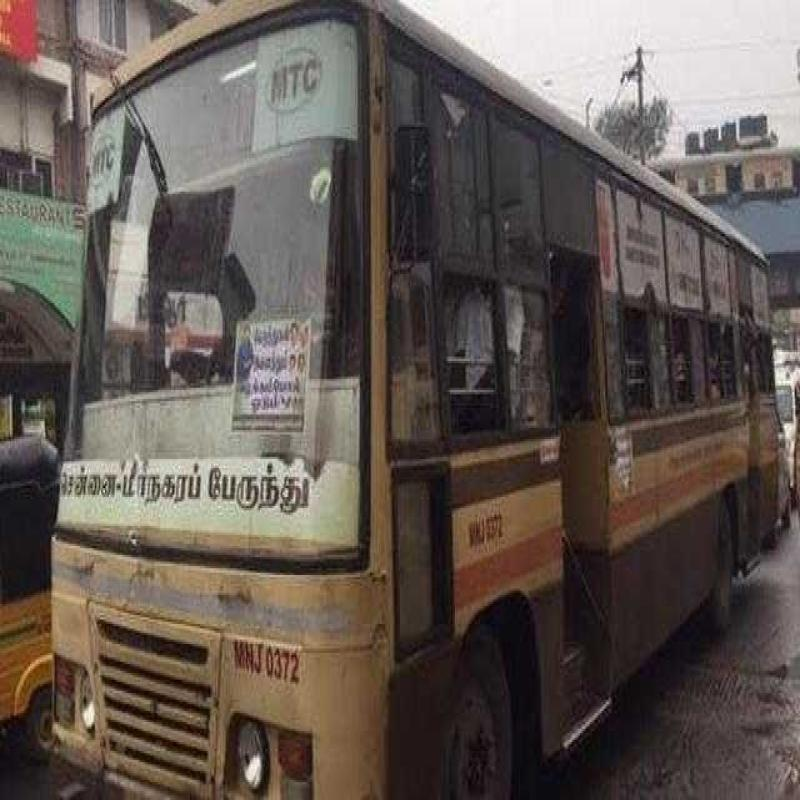bus: (60, 23, 782, 782)
